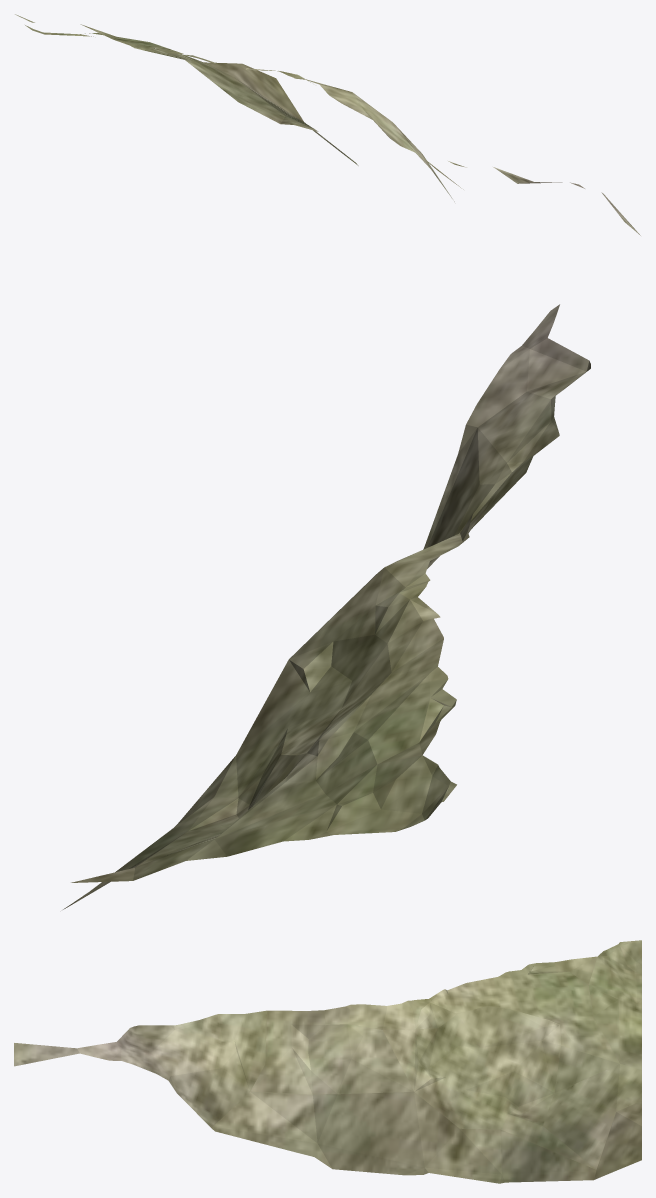
The picture shows the model from 3 angles, top to bottom: view 1: azimuth 30°, elevation 25°; view 2: azimuth 150°, elevation 25°; view 3: azimuth 270°, elevation 25°; orthographic projection. The views are drawn at different scales.
Size of the model in its own units: 2.44 by 1.39 by 5.9.
1 material, 1 textured.
